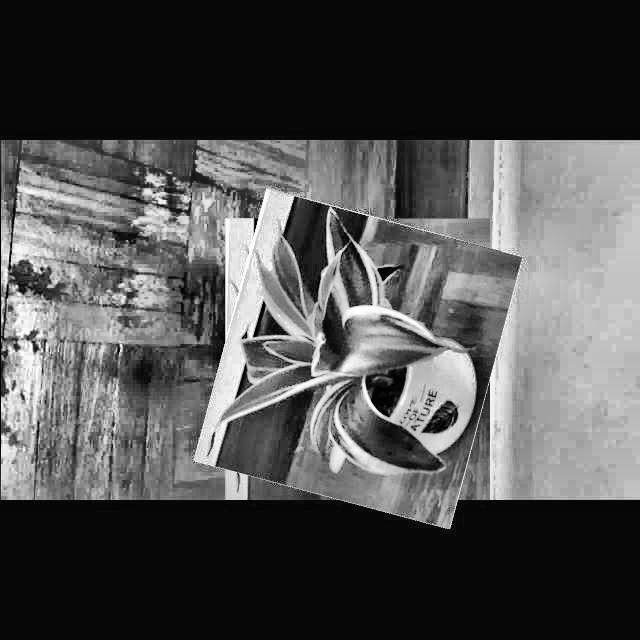plants: (209, 203, 506, 514)
